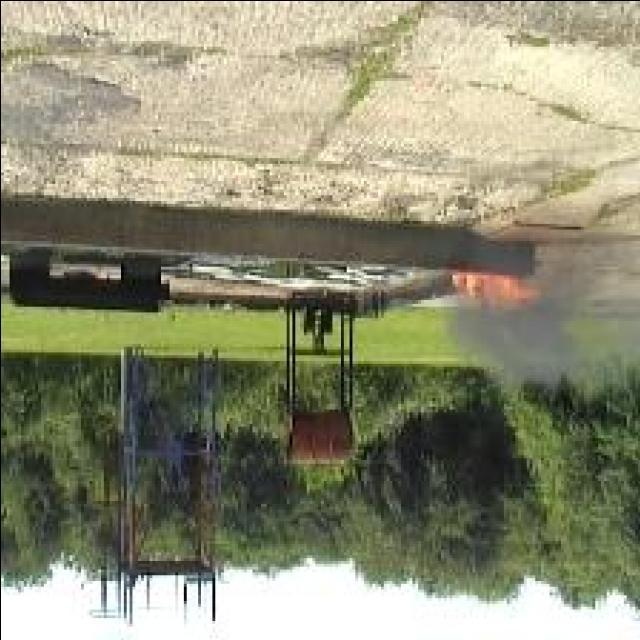Fire: (448, 273, 534, 307)
